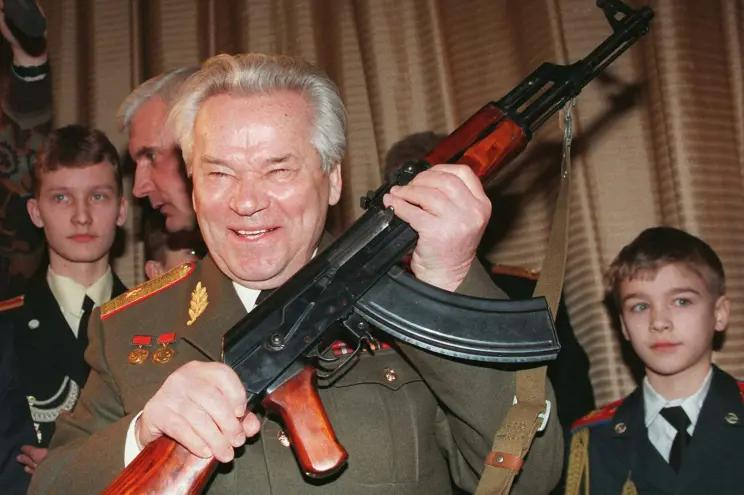larga: (99, 0, 656, 495)
